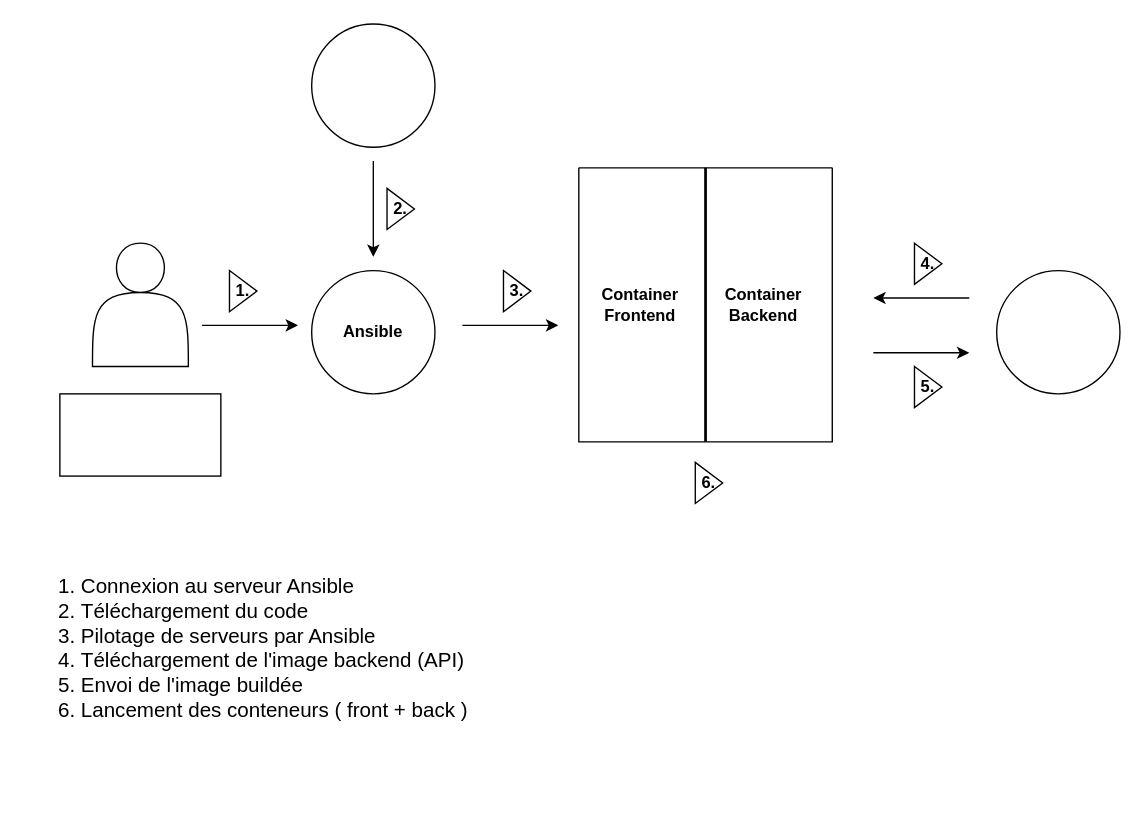
This 1144x815 diagram has some shape labels left out. The shapes that lost their labels are listed below. From the top down, each one's centre as x and y in pixels, then its label:
point (372, 85): GitHub
point (1057, 331): Docker
point (139, 434): Ingénieur DevOps
